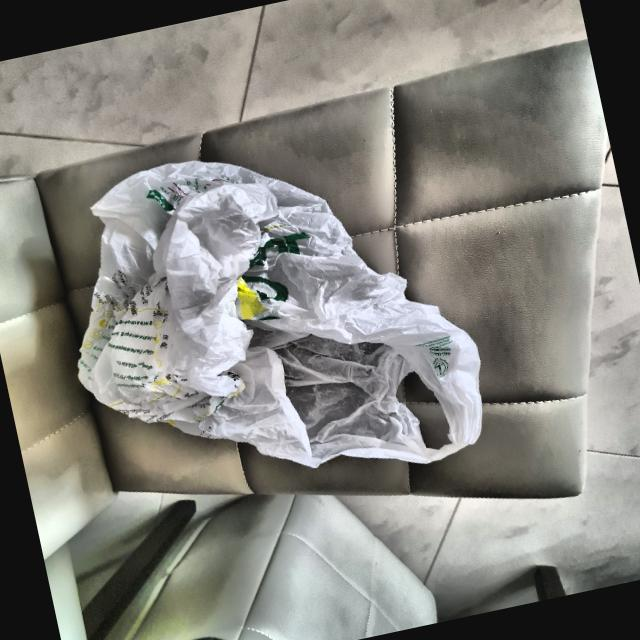plastic bag: (0, 74, 529, 561)
